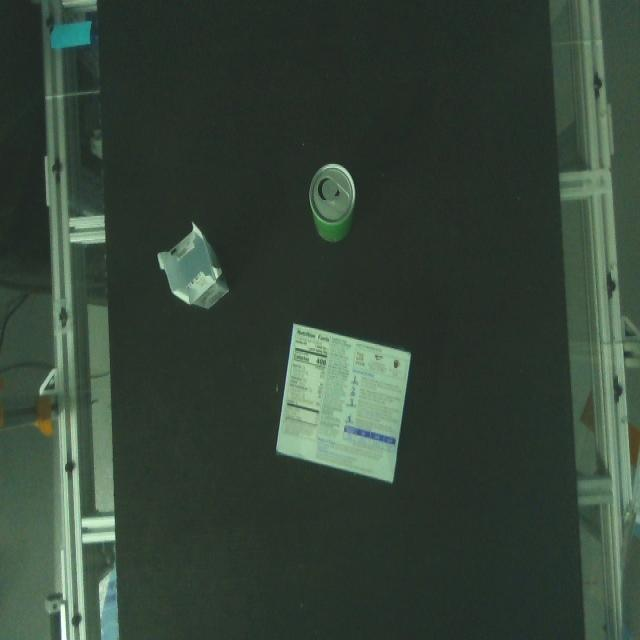non-paper: (298, 157, 368, 247)
paper: (272, 313, 424, 485), (153, 218, 242, 316)
